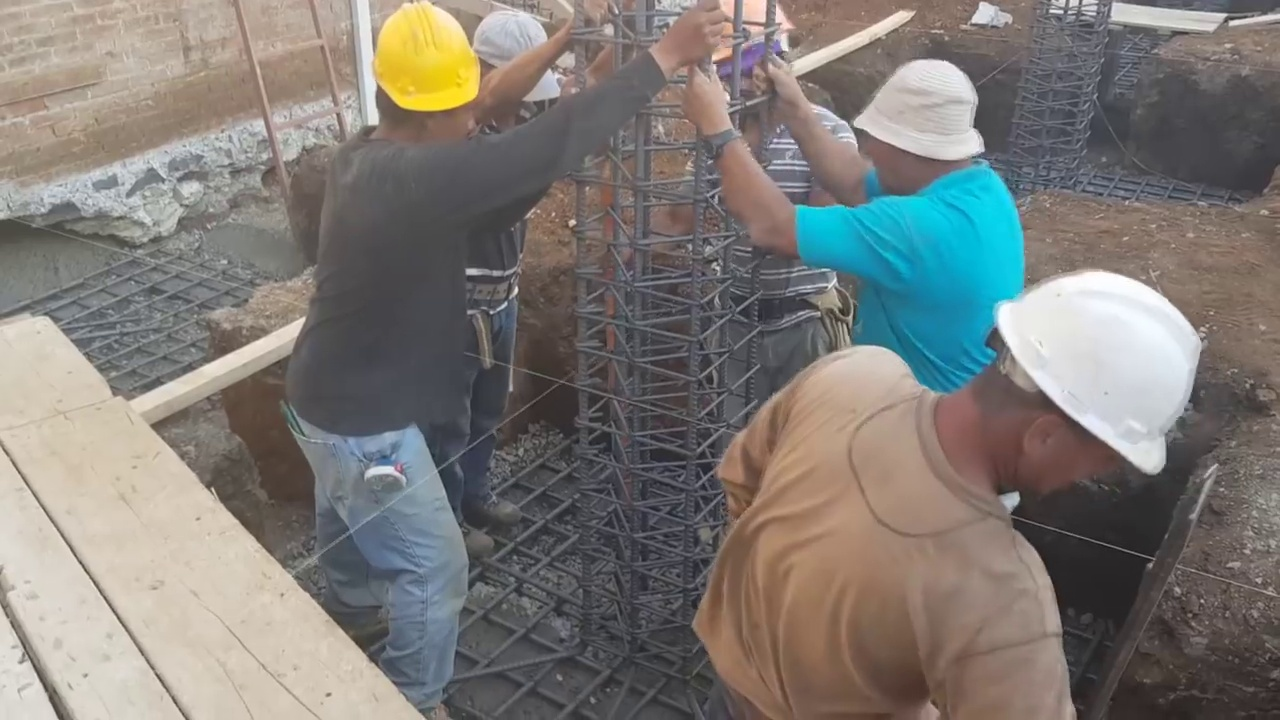helmet: (993, 281, 1217, 485), (366, 5, 479, 122), (706, 1, 795, 62)
helmet-off: (859, 53, 989, 195), (468, 5, 557, 119)
helmet-on: (927, 272, 1214, 512), (356, 20, 482, 164), (704, 0, 797, 136)
person: (276, 0, 618, 719), (681, 272, 1216, 717), (664, 48, 1025, 389), (618, 0, 853, 456), (429, 5, 606, 551)
